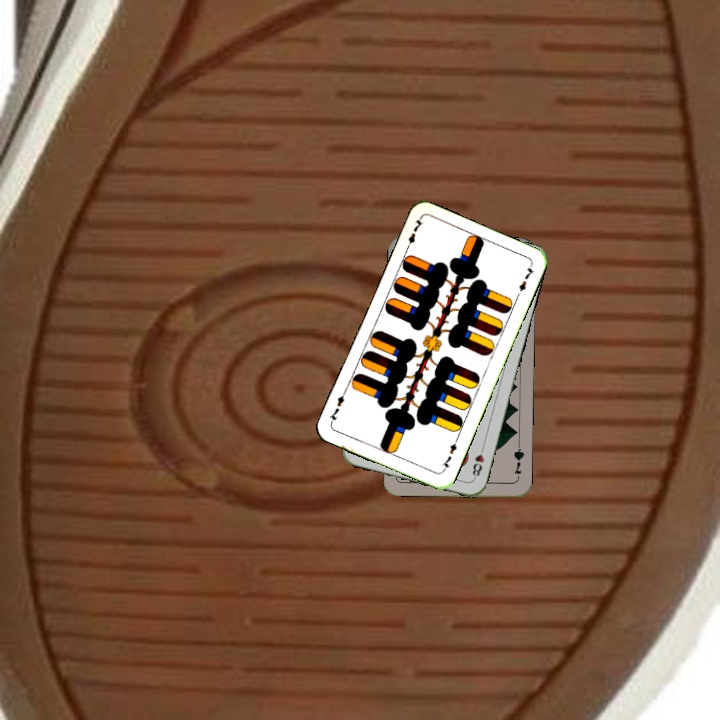E7: (402, 214, 426, 253), (438, 435, 460, 474)
G7: (510, 441, 527, 476)
H8: (468, 441, 487, 481)
